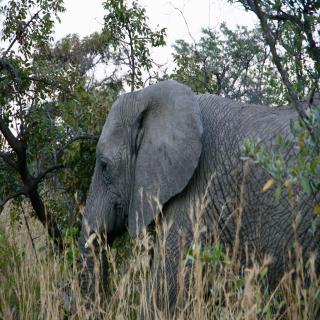Elephant: (71, 78, 320, 320)
